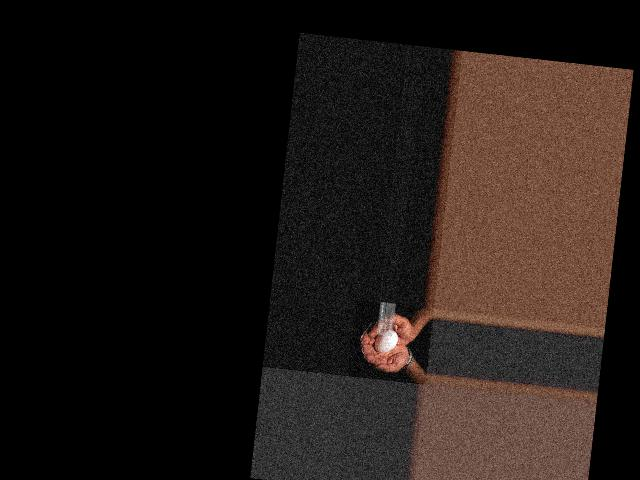egg: (373, 329, 398, 354)
